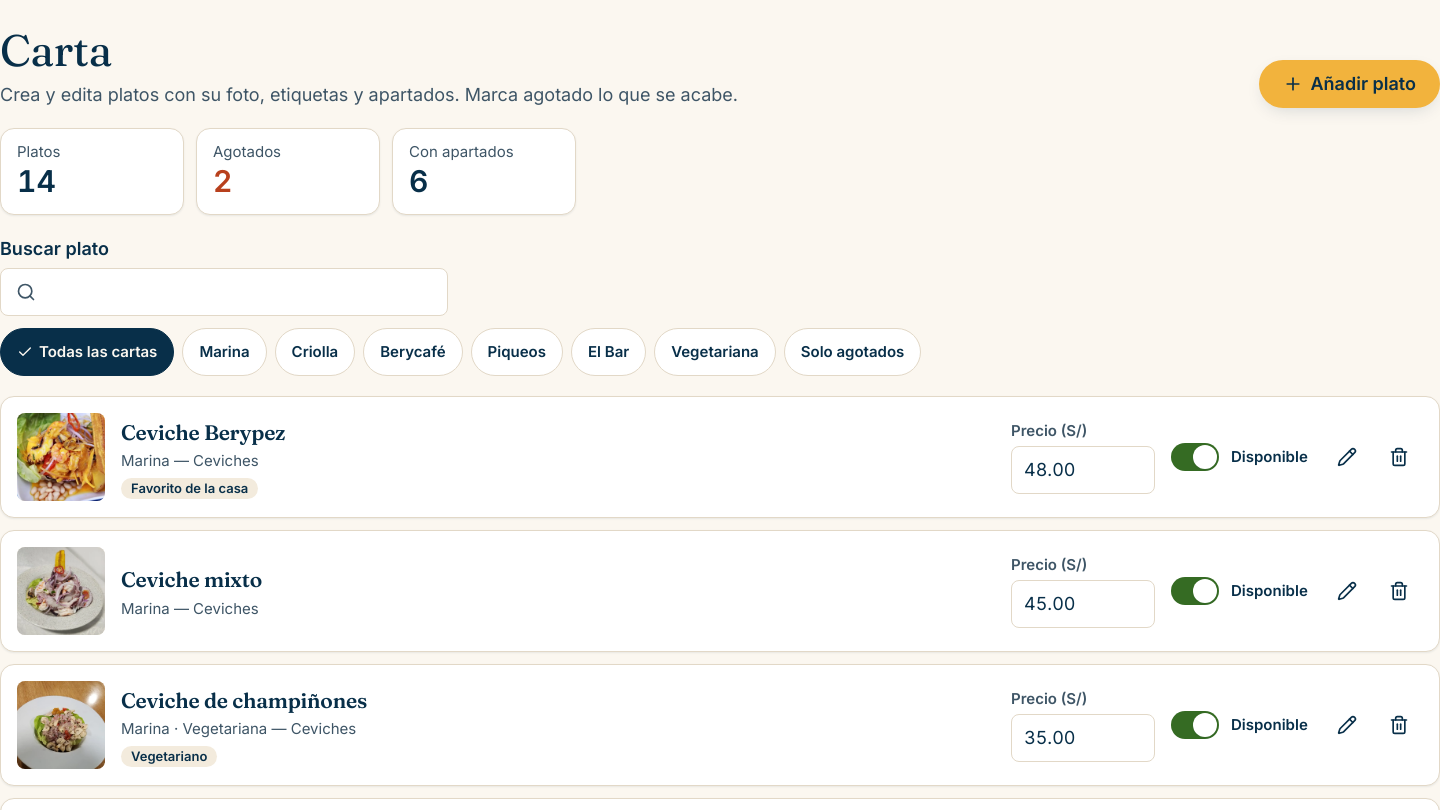
Test case: CartaManager · lista › sin resultados muestra un mensaje claro
Check: the heading "Ceviche Berypez" is shown, box [121,416,285,448]
Type "xyz" into the search field labelled "Buscar plato" at [224, 292], box [0,268,448,316]
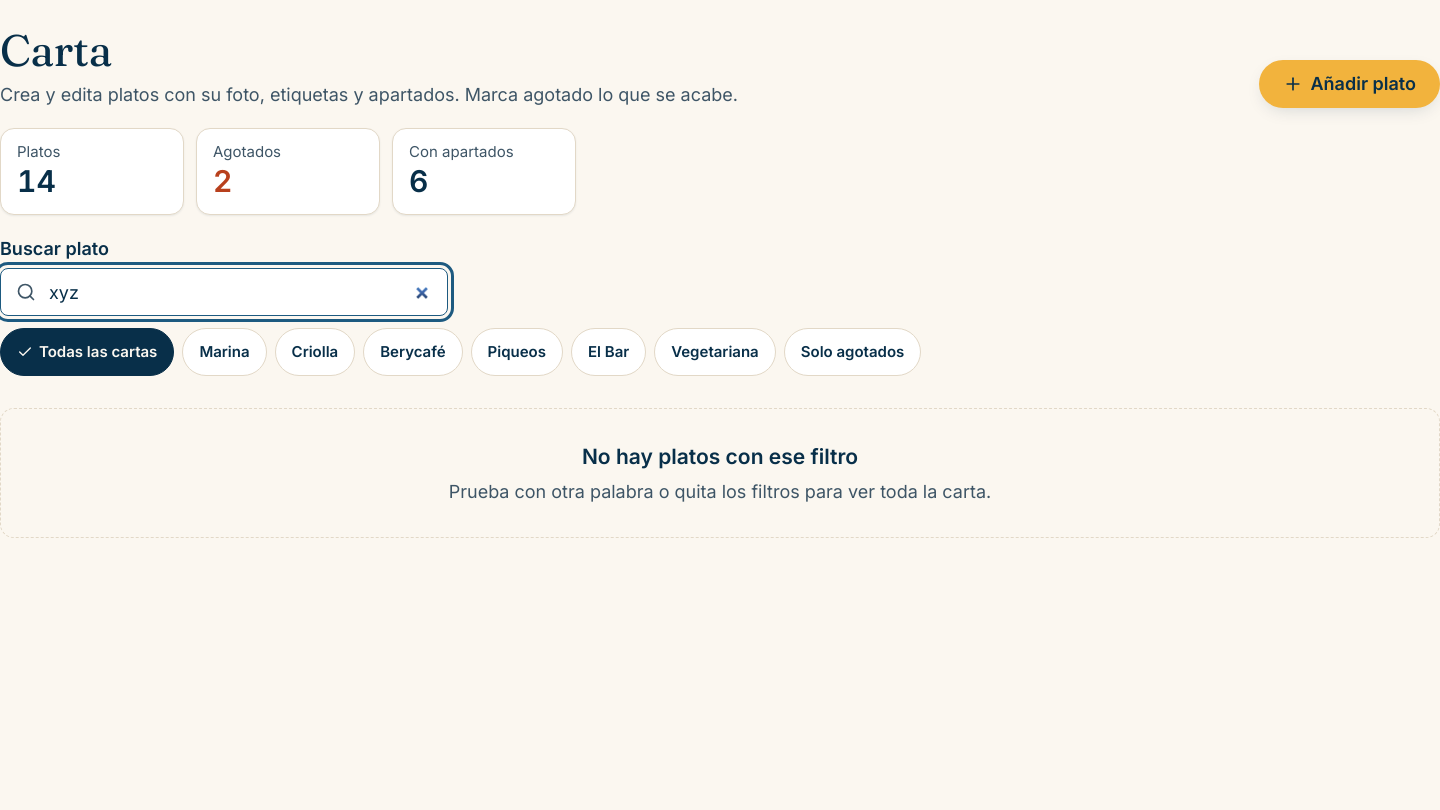
Check: the text "No hay platos con ese filtro" is shown, box [582,444,858,469]
